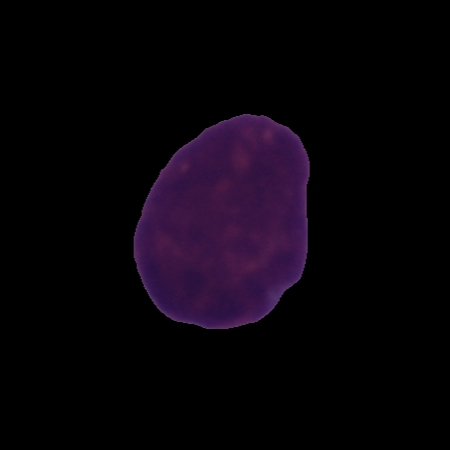ALL: (129, 108, 315, 333)
